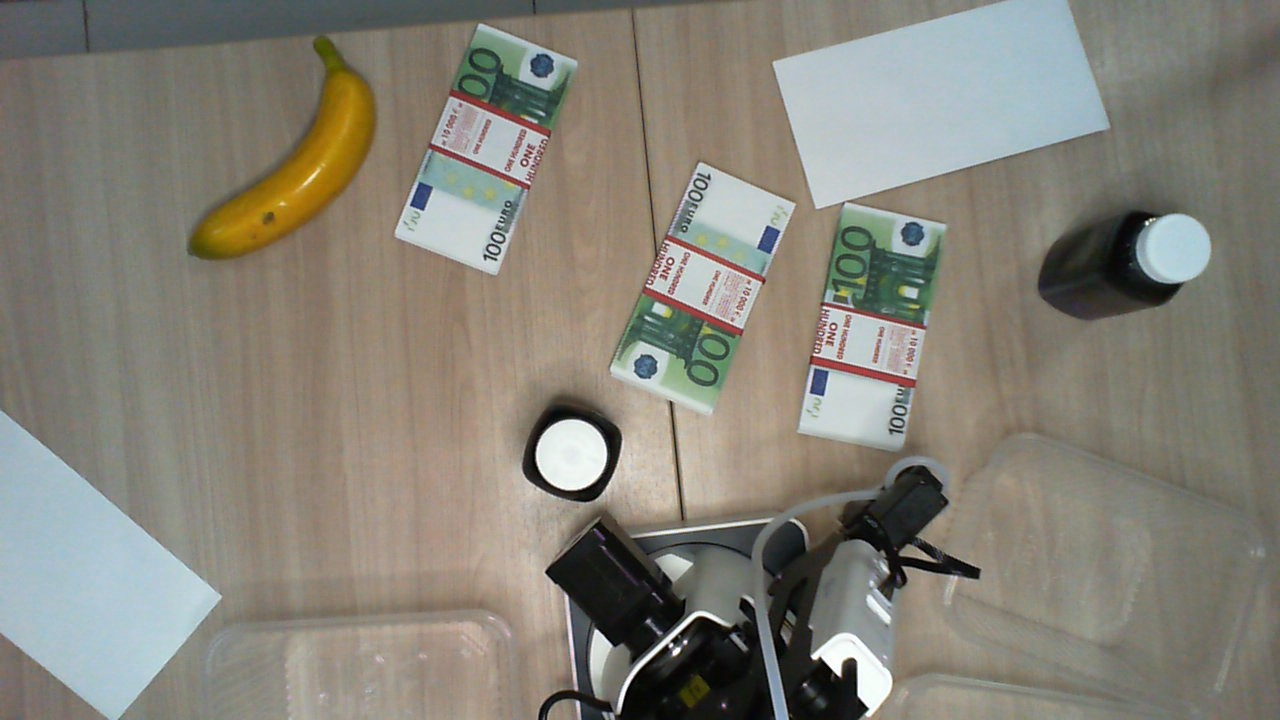banana: (187, 35, 378, 262)
bottle: (523, 402, 619, 502), (1129, 212, 1212, 292)
convert: (772, 1, 1113, 209), (1, 407, 225, 720)
money: (608, 162, 795, 417), (393, 22, 578, 274), (797, 201, 948, 449)
